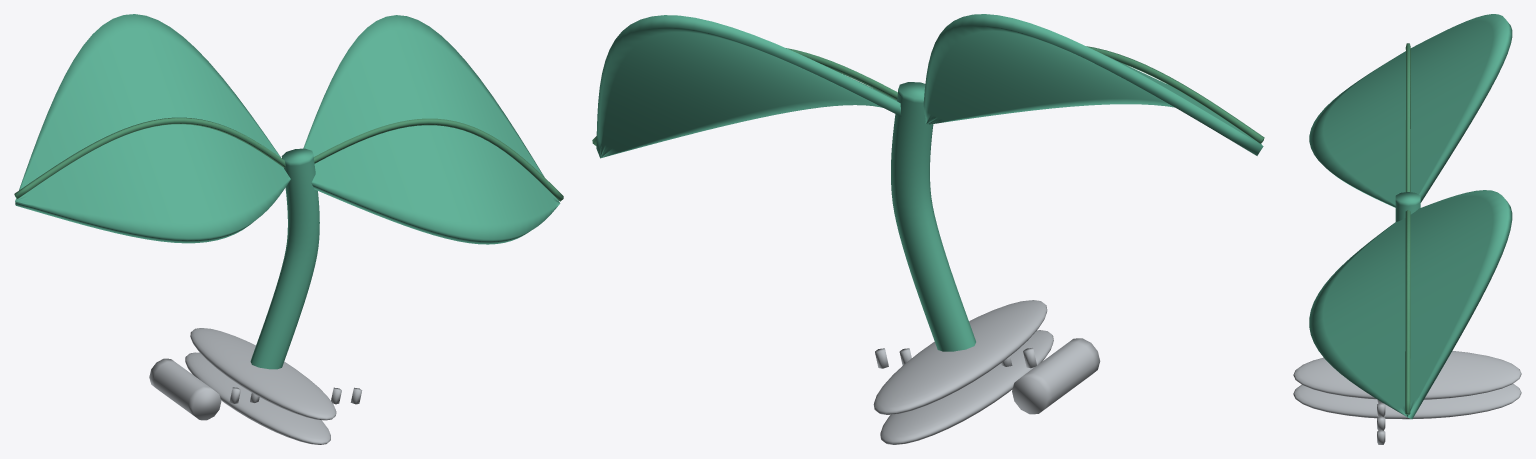
File: Feminine-curls-pashmina261-sprout.glb
3 views of the same model, side by side, from view 1: azimuth 30°, elevation 25°; view 2: azimuth 150°, elevation 25°; view 3: azimuth 270°, elevation 25° (orthographic). The views are drawn at different scales.
Parts seen in each view (by area): view 1: 226 extra / Accessory / mint226, 226 extra / Sprout / clip silver235, 226 extra / Sprout / leaf vein235; view 2: 226 extra / Accessory / mint226, 226 extra / Sprout / clip silver235, 226 extra / Sprout / leaf vein235; view 3: 226 extra / Accessory / mint226, 226 extra / Sprout / clip silver235, 226 extra / Sprout / leaf vein235.
Part boxes in pixels (bbox=[...]): 226 extra / Accessory / mint226: bbox=[15, 14, 560, 369]; 226 extra / Sprout / clip silver235: bbox=[149, 328, 362, 444]; 226 extra / Sprout / leaf vein235: bbox=[14, 117, 563, 201]; 226 extra / Accessory / mint226: bbox=[596, 14, 1263, 351]; 226 extra / Sprout / clip silver235: bbox=[873, 300, 1100, 444]; 226 extra / Sprout / leaf vein235: bbox=[592, 46, 1264, 146]; 226 extra / Accessory / mint226: bbox=[1309, 14, 1512, 419]; 226 extra / Sprout / clip silver235: bbox=[1293, 350, 1521, 444]; 226 extra / Sprout / leaf vein235: bbox=[1405, 43, 1410, 414].
Size of the model in its own units: 0.2644 by 0.174 by 0.104.
